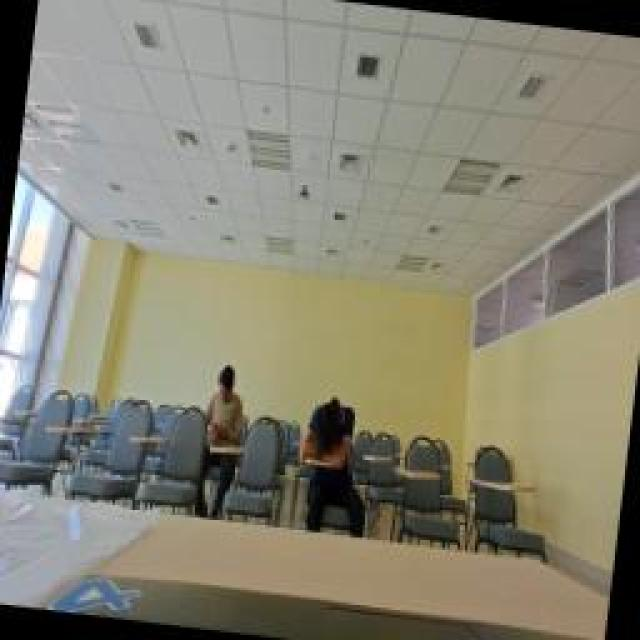phone: (195, 358, 250, 450)
sleep: (295, 388, 360, 470)
